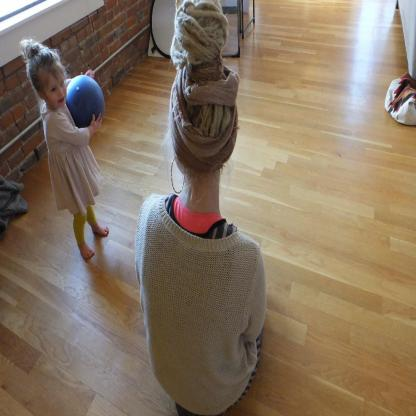Ball: (67, 74, 105, 127)
